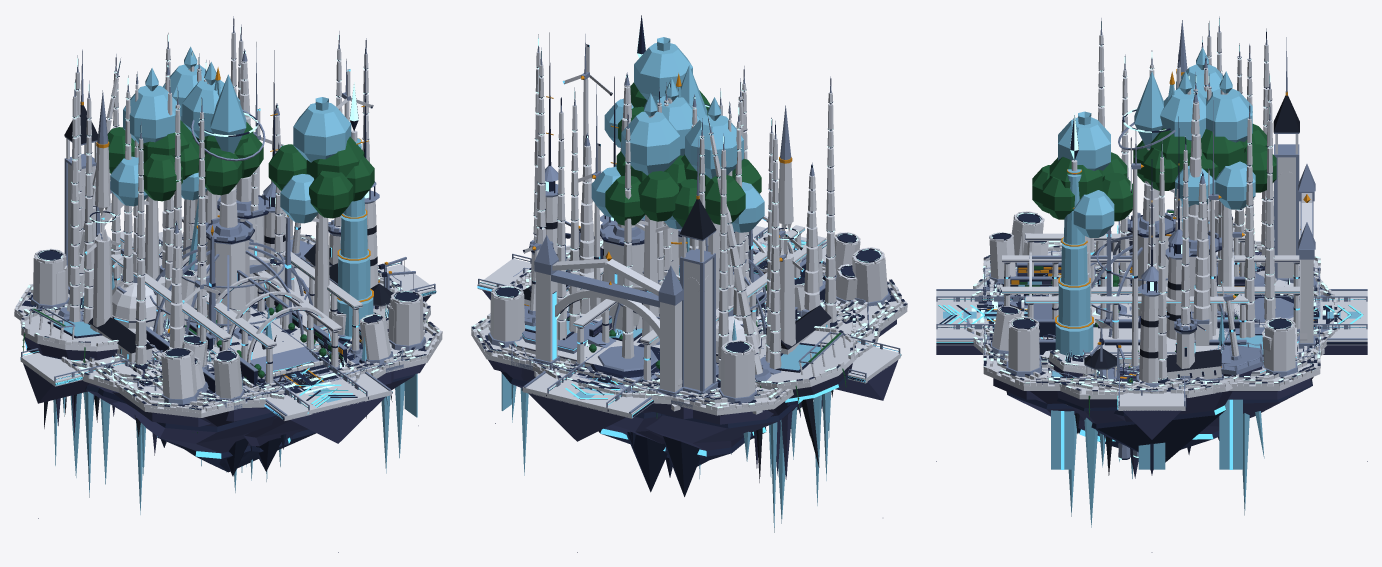
The model's file is sky_citadel_unmooring_structure.fbx.
3 renders of one model, left to right at view 1: azimuth 30°, elevation 25°; view 2: azimuth 150°, elevation 25°; view 3: azimuth 270°, elevation 25°, orthographic. The views are drawn at different scales.
Visible parts, largest first — view 1: chunk_sky_tree_grove__unmooring, chunk_spire_court__unmooring, chunk_aether_springs__unmooring, chunk_spire_court_b__unmooring, chunk_archive__unmooring, chunk_path_colonnade__unmooring, chunk_garden_terrace__unmooring, chunk_boss_clearing__unmooring, chunk_side_garden__unmooring, chunk_parade_ground__unmooring, chunk_crossroads__unmooring, chunk_path_bend__unmooring (+19 smaller); view 2: chunk_spire_court__unmooring, chunk_garden_terrace__unmooring, chunk_sky_tree_grove__unmooring, chunk_archive__unmooring, chunk_path_colonnade__unmooring, chunk_boss_clearing__unmooring, chunk_aether_springs__unmooring, chunk_spire_court_b__unmooring, chunk_parade_ground__unmooring, chunk_armory__unmooring, chunk_path_long_span__unmooring, chunk_crossroads__unmooring (+16 smaller); view 3: chunk_spire_court__unmooring, chunk_aether_springs__unmooring, chunk_garden_terrace__unmooring, chunk_sky_tree_grove__unmooring, chunk_archive__unmooring, chunk_boss_clearing__unmooring, chunk_armory__unmooring, chunk_spire_court_b__unmooring, chunk_side_garden__unmooring, chunk_parade_ground__unmooring, chunk_path_colonnade__unmooring, chunk_crossroads__unmooring (+17 smaller).
Part boxes in pixels (<box>): chunk_sky_tree_grove__unmooring: <box>62,68,403,472</box>; chunk_spire_court__unmooring: <box>14,24,442,472</box>; chunk_aether_springs__unmooring: <box>20,82,425,552</box>; chunk_spire_court_b__unmooring: <box>85,59,403,471</box>; chunk_archive__unmooring: <box>64,49,404,421</box>; chunk_path_colonnade__unmooring: <box>45,80,360,477</box>; chunk_garden_terrace__unmooring: <box>20,46,430,497</box>; chunk_boss_clearing__unmooring: <box>40,33,405,443</box>; chunk_side_garden__unmooring: <box>160,62,364,391</box>; chunk_parade_ground__unmooring: <box>20,16,436,426</box>; chunk_crossroads__unmooring: <box>22,74,435,402</box>; chunk_path_bend__unmooring: <box>205,153,436,492</box>; chunk_spire_court__unmooring: <box>471,87,907,465</box>; chunk_garden_terrace__unmooring: <box>561,93,854,505</box>; chunk_sky_tree_grove__unmooring: <box>513,37,858,418</box>; chunk_archive__unmooring: <box>510,139,851,435</box>; chunk_path_colonnade__unmooring: <box>553,121,823,523</box>; chunk_boss_clearing__unmooring: <box>508,113,884,415</box>; chunk_aether_springs__unmooring: <box>488,15,901,552</box>; chunk_spire_court_b__unmooring: <box>510,34,869,492</box>; chunk_parade_ground__unmooring: <box>477,97,901,424</box>; chunk_armory__unmooring: <box>520,133,869,496</box>; chunk_path_long_span__unmooring: <box>511,76,864,480</box>; chunk_crossroads__unmooring: <box>477,65,900,406</box>; chunk_spire_court__unmooring: <box>982,44,1367,449</box>; chunk_aether_springs__unmooring: <box>936,112,1367,552</box>; chunk_garden_terrace__unmooring: <box>983,71,1320,527</box>; chunk_sky_tree_grove__unmooring: <box>989,47,1314,367</box>; chunk_archive__unmooring: <box>936,37,1367,364</box>; chunk_boss_clearing__unmooring: <box>936,73,1337,398</box>; chunk_armory__unmooring: <box>936,28,1367,462</box>; chunk_spire_court_b__unmooring: <box>983,130,1320,439</box>; chunk_side_garden__unmooring: <box>947,71,1215,328</box>; chunk_parade_ground__unmooring: <box>942,105,1365,399</box>; chunk_path_colonnade__unmooring: <box>942,16,1367,336</box>; chunk_crossroads__unmooring: <box>937,71,1367,439</box>.
Bounding box in the file's own units: 256 × 256 × 256.
